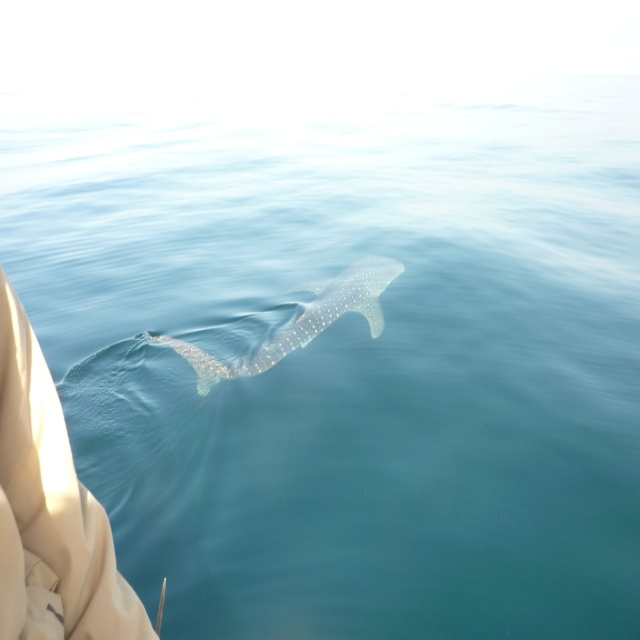Shark: (149, 265, 402, 395)
